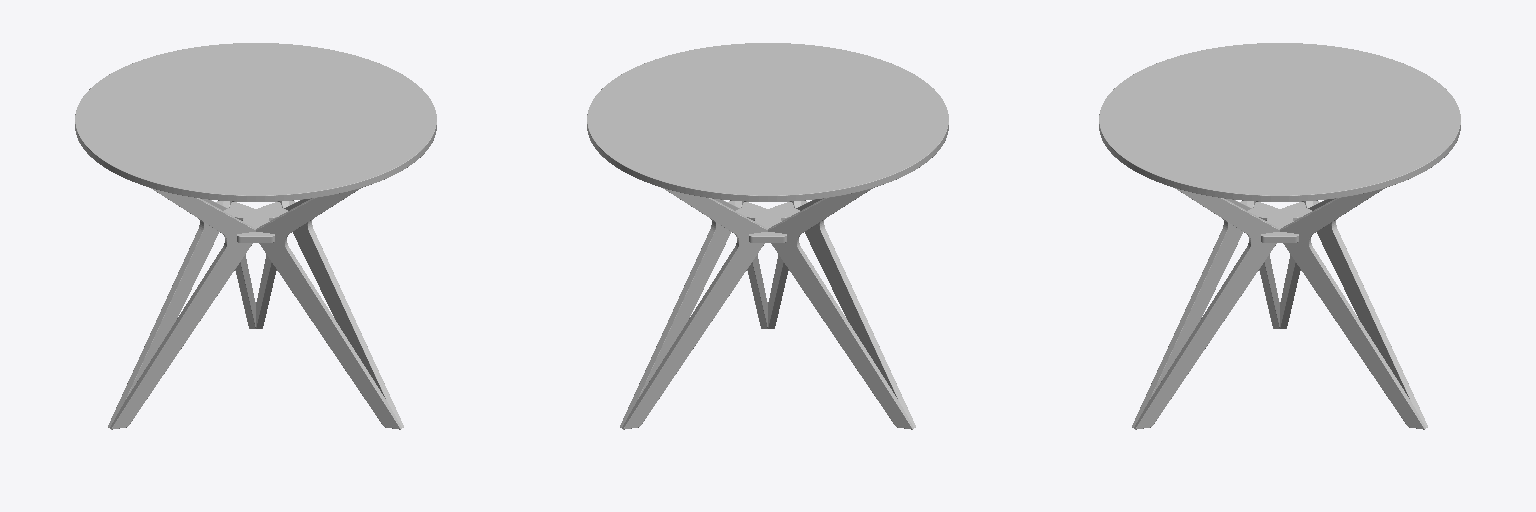
Rendered from stable.obj.
3 views of the same model, side by side, from view 1: azimuth 30°, elevation 25°; view 2: azimuth 150°, elevation 25°; view 3: azimuth 270°, elevation 25° (orthographic).
Parts seen in each view (by area): view 1: table; view 2: table; view 3: table.
Boxes of the visible parts, x1=… form: table: x1=75, y1=43, x2=436, y2=429; table: x1=587, y1=43, x2=948, y2=429; table: x1=1099, y1=43, x2=1460, y2=429.
Bounding box in the file's own units: 90 × 75 × 90.